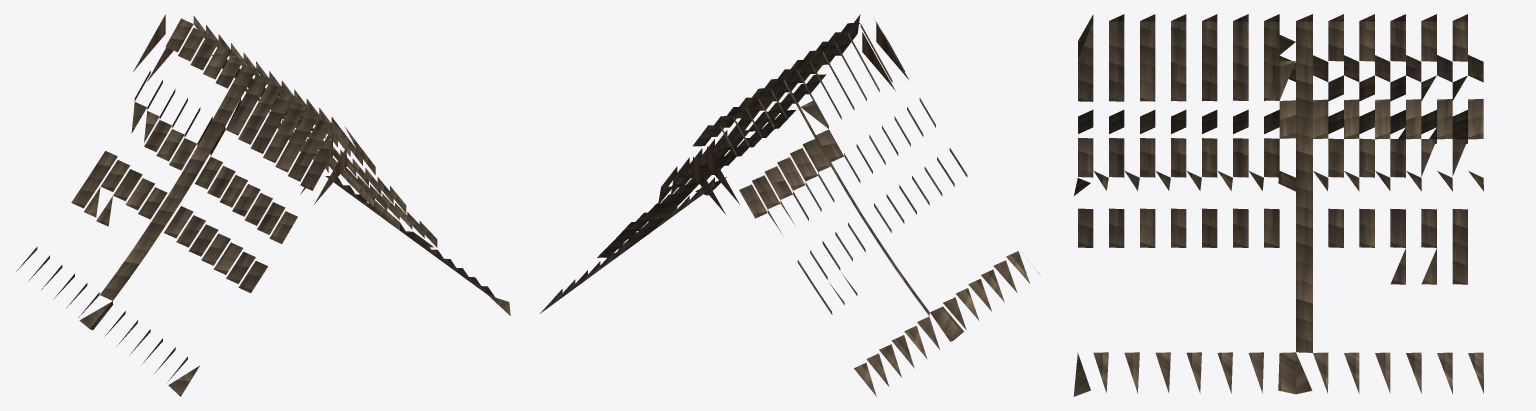
The model's file is Roof_Shingle_6x6_LOD2.gltf.
3 renders of one model, left to right at view 1: azimuth 30°, elevation 25°; view 2: azimuth 150°, elevation 25°; view 3: azimuth 270°, elevation 25°, orthographic. The views are drawn at different scales.
Parts seen in each view (by area): view 1: Roof_Shingle_6x6_LOD2; view 2: Roof_Shingle_6x6_LOD2; view 3: Roof_Shingle_6x6_LOD2.
Part boxes in pixels (x1,y1,x2,y2): Roof_Shingle_6x6_LOD2: [16, 14, 510, 396]; Roof_Shingle_6x6_LOD2: [540, 14, 1040, 396]; Roof_Shingle_6x6_LOD2: [1073, 14, 1483, 396].
Bounding box in the file's own units: 8.25 × 5.17 × 7.59.
2 materials, 2 textured.
